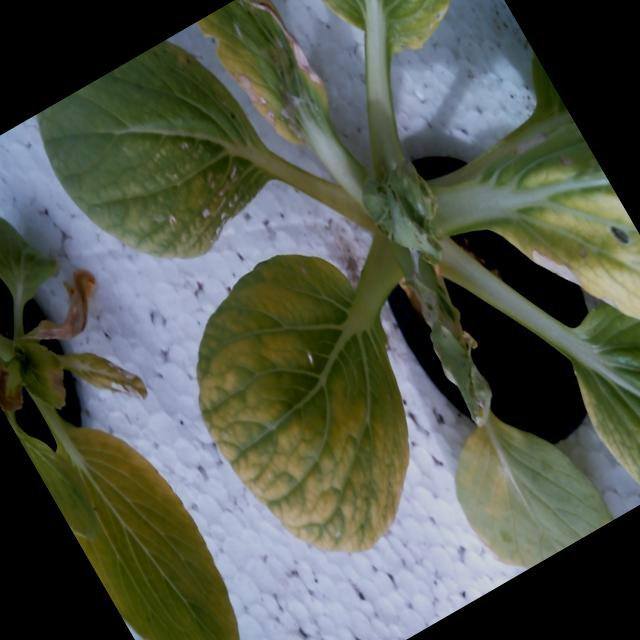pakcoy_tidak_sehat: (19, 0, 640, 629)
